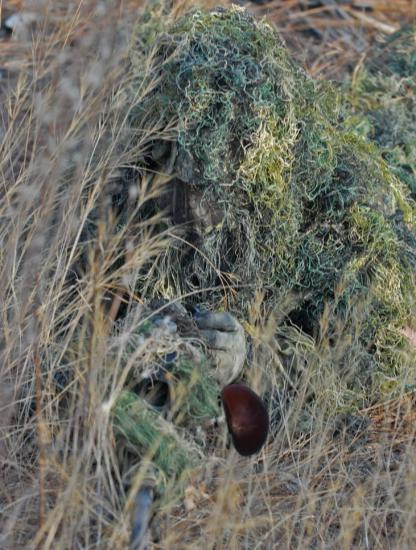Chestnut: (209, 380, 286, 457)
